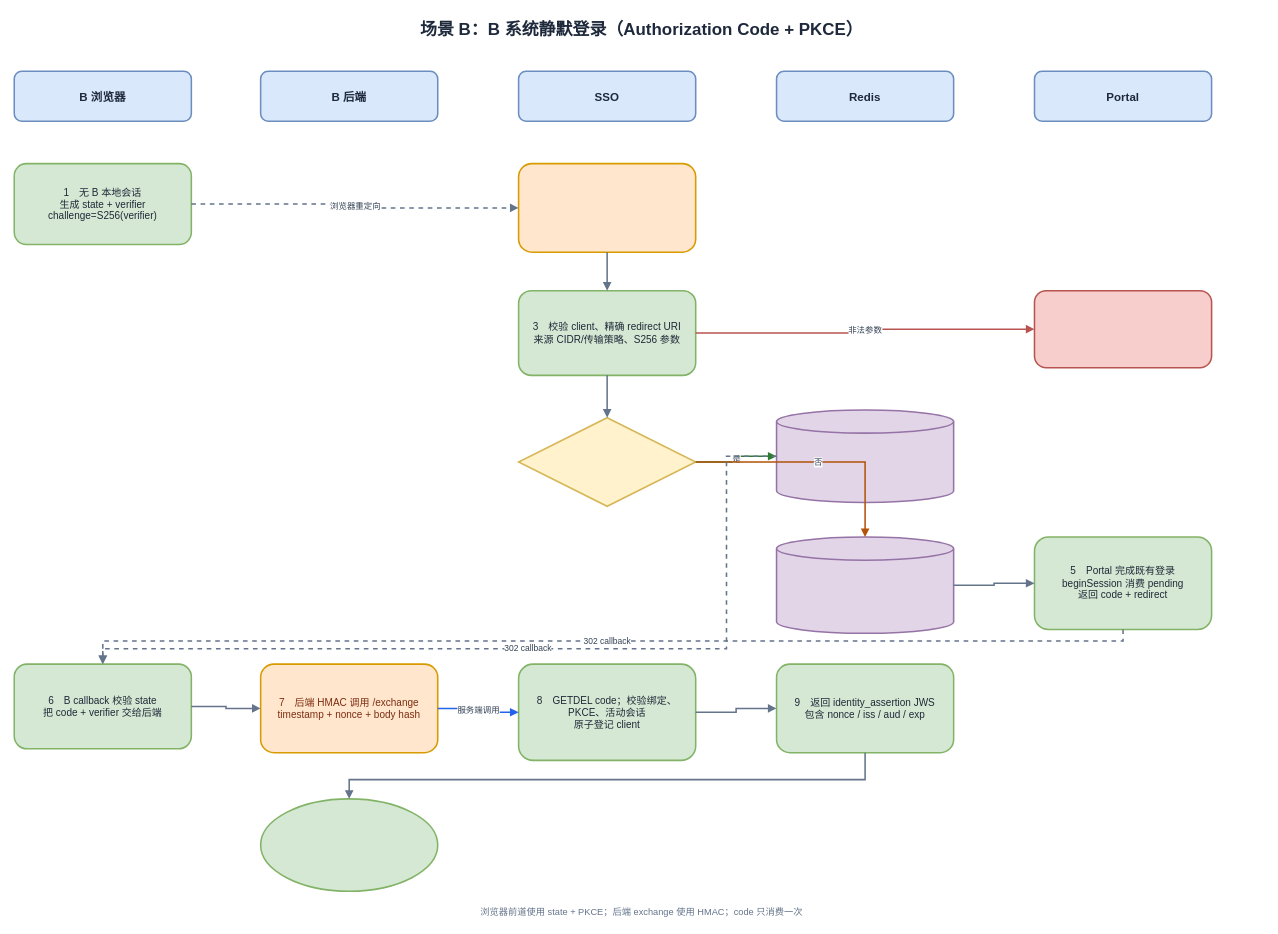
The diagram is 1278 pixels wide and 934 high, and some of its shapes have lost their labels. The centre of each missing label's shape, as x and y in pixels:
10 固定公钥/指纹验证 kid 与签名 校验 claims 后创建 B 本地会话: point 348,845
2 GET /sso/v1/authorize client_id / redirect_uri state / code_challenge: point 606,207
4A 签发一次性 code TTL 90s，绑定 client / URI / PKCE: point 864,456
4B 按 state hash 独立计数 保存 pending TTL 10min 302 Portal 登录: point 864,585
SSO_SID 指向活动会话？: point 606,462
任一校验失败 统一拒绝且不泄露账户状态: point 1122,329
